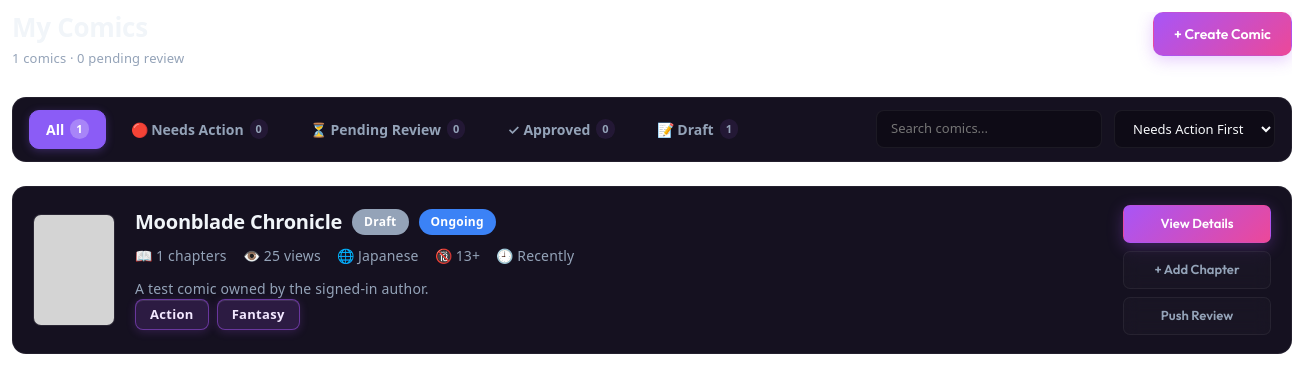
Test: Author My Comics workflow › submits a draft comic to moderator review and updates its state
Expected: the heading "Moonblade Chronicle" is shown, [135,210,342,234]
Click the button "Push Review" at (1197, 316), box [1123,297,1271,335]
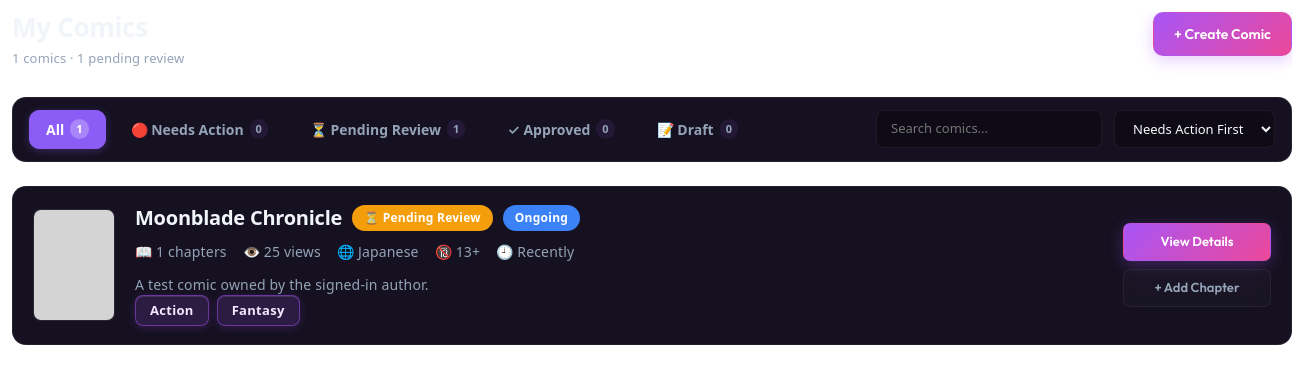
Now the button "Push Review" is gone
